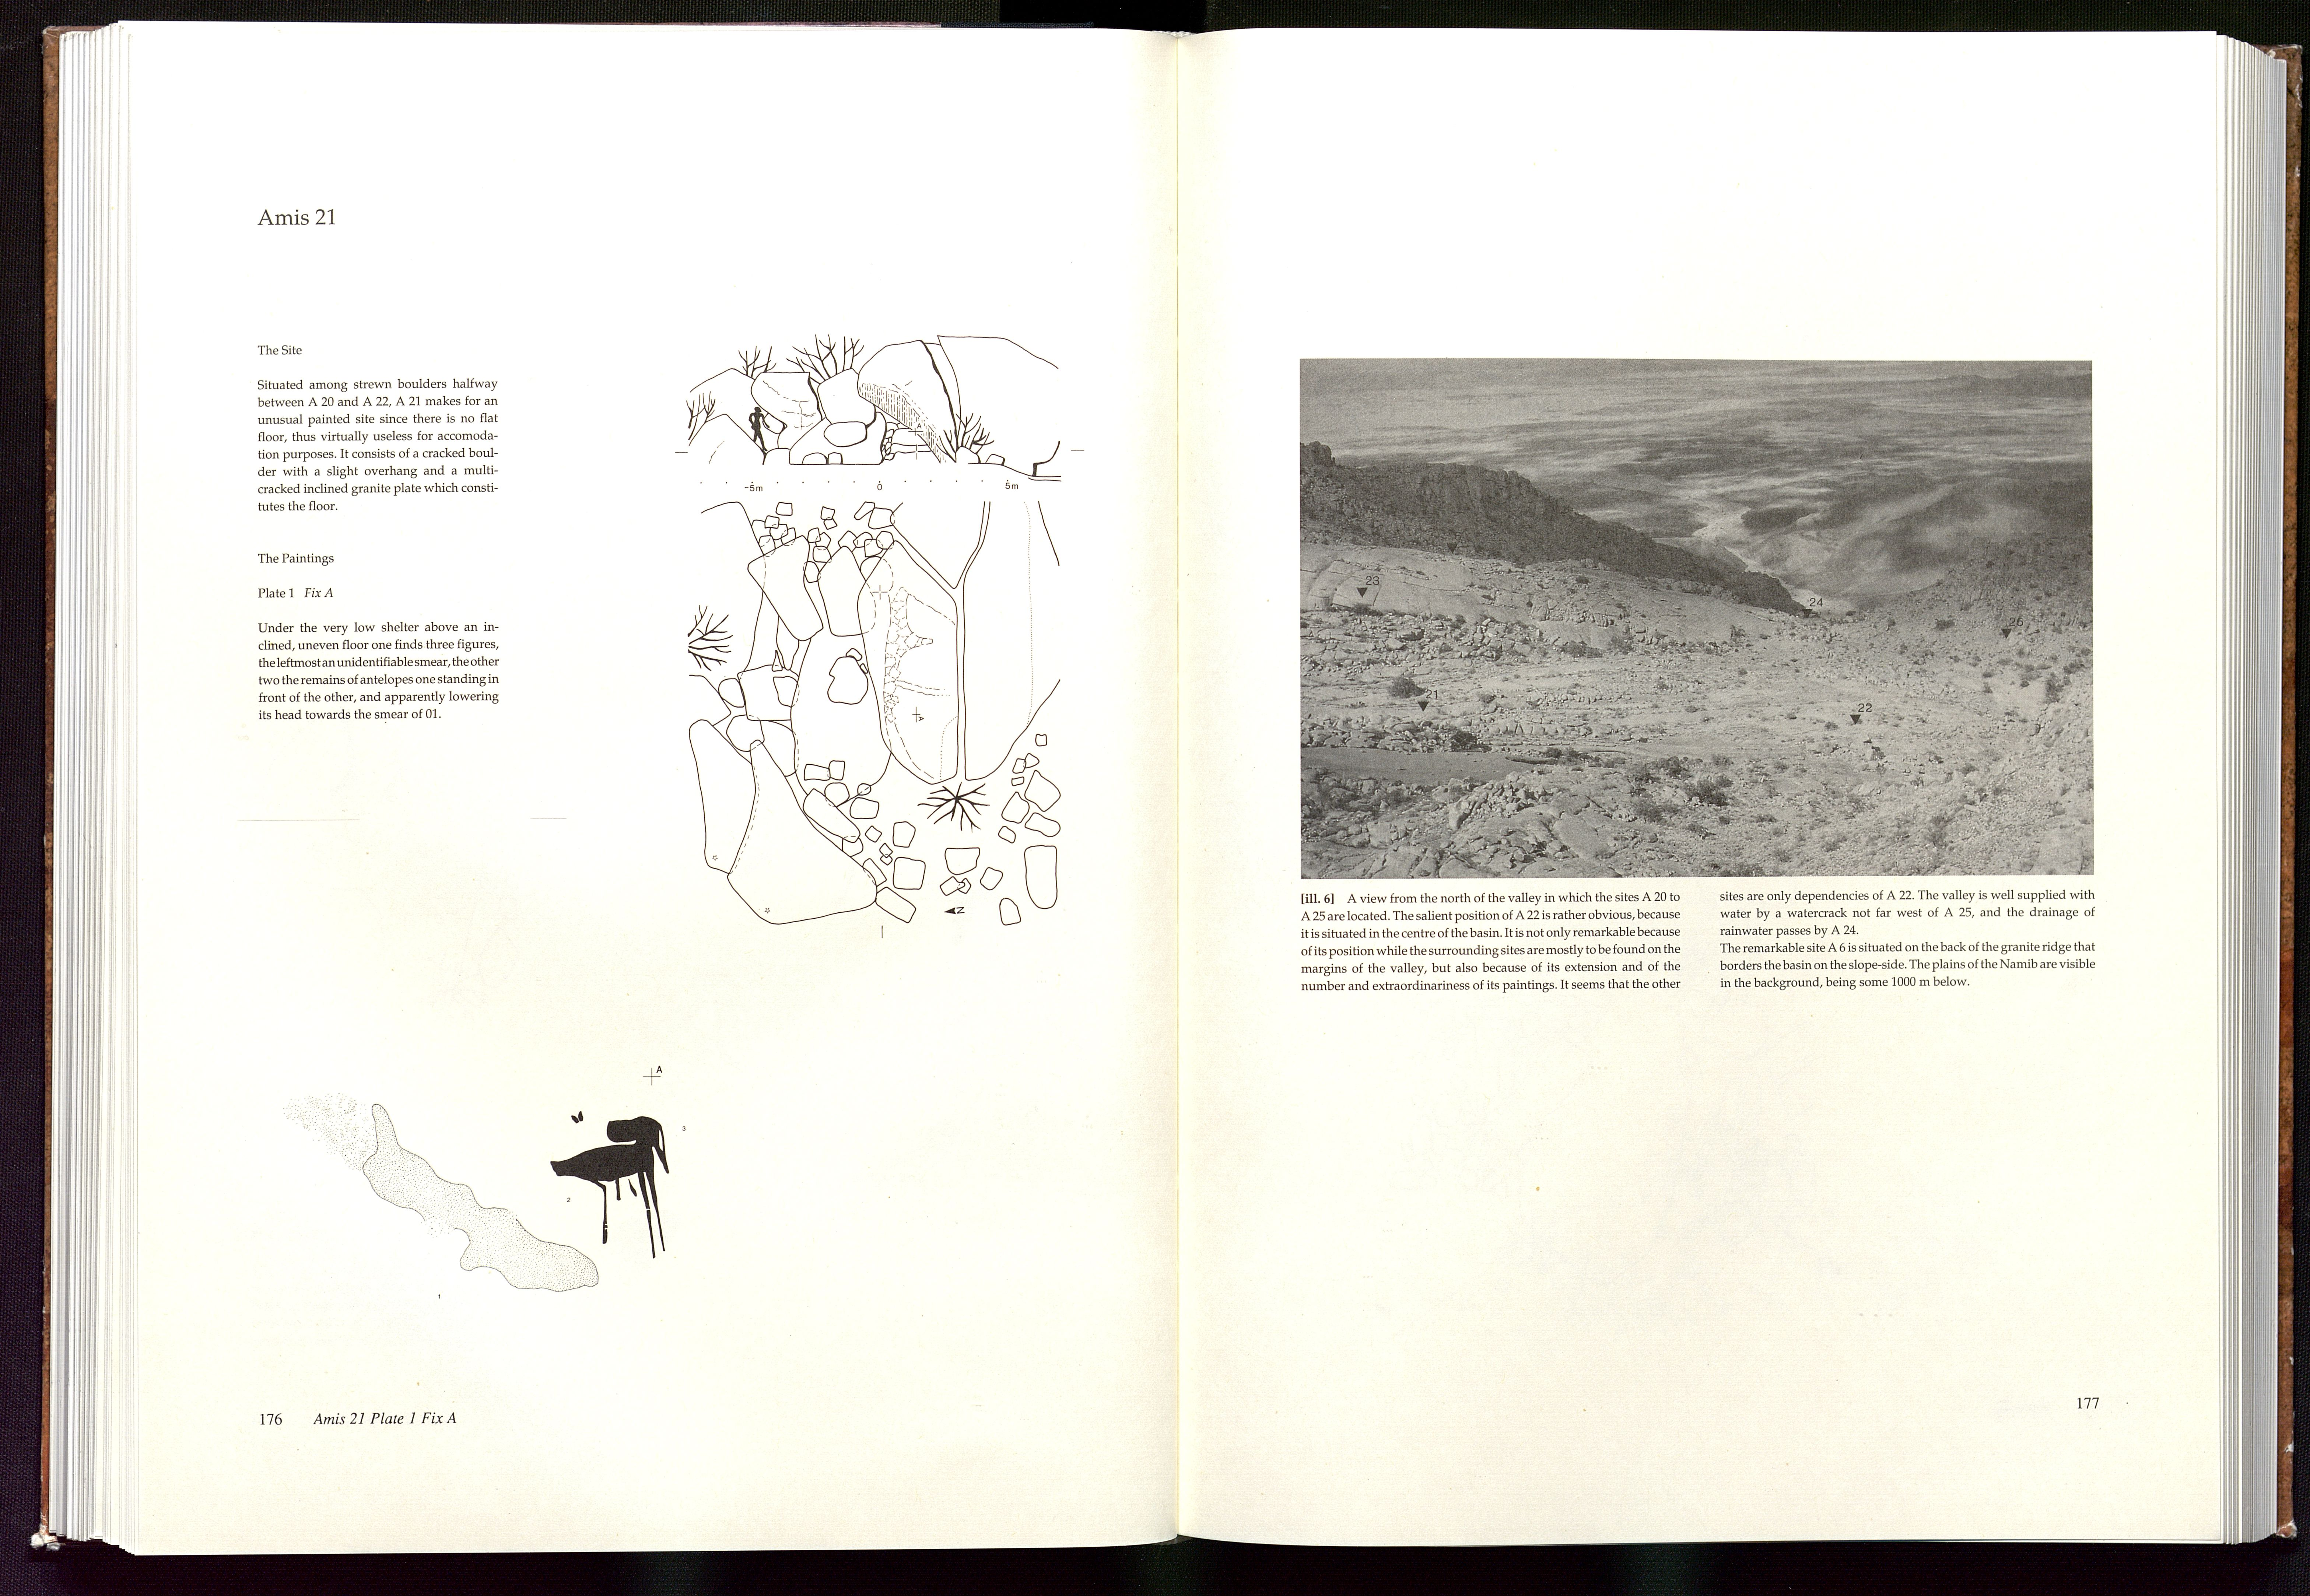animal: (544, 1139, 678, 1266), (569, 1104, 686, 1199)
